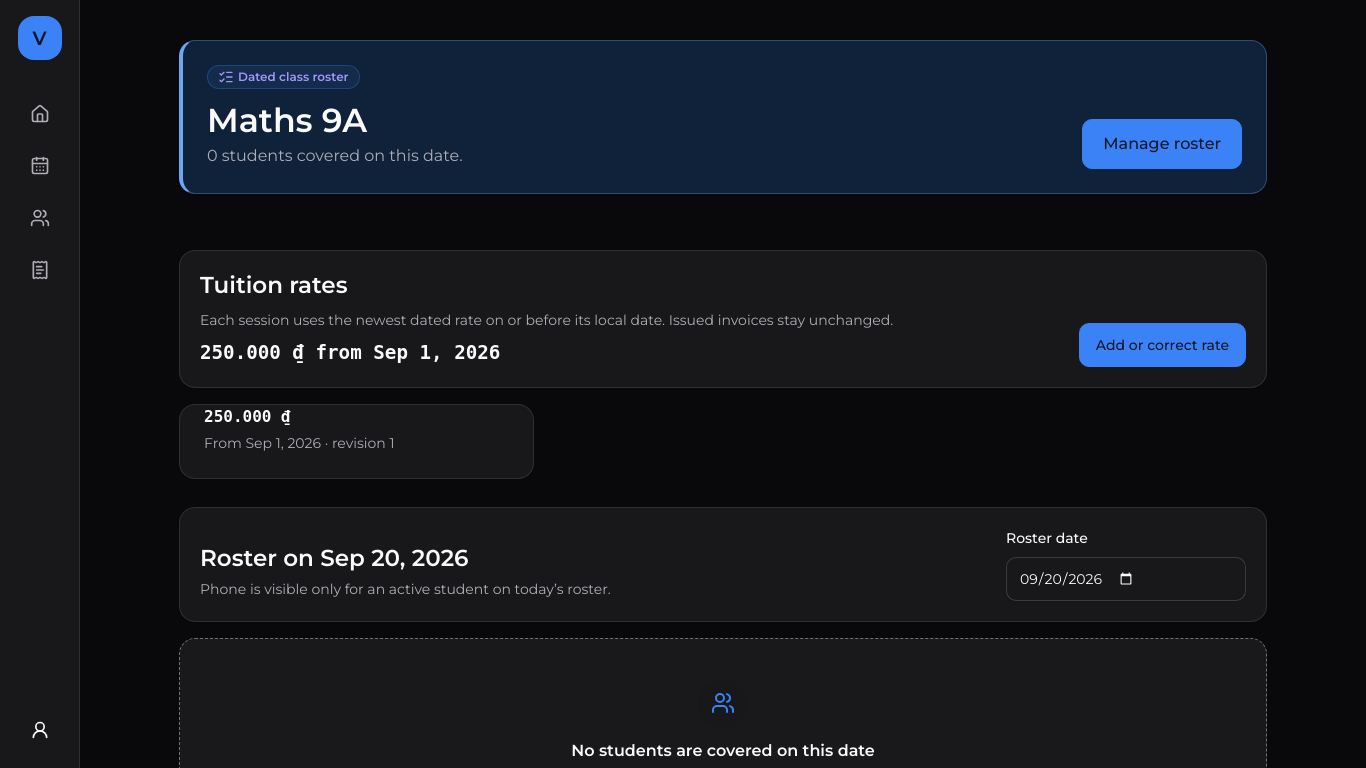
Test case: ClassDetailPage tuition rates › opens the dated rate editor with the server allowed range
Expected: the heading "Tuition rates" is shown, top-left (200, 272), bottom-right (348, 302)
Expected: the text "From Sep 1, 2026 · revision 1" is shown, top-left (204, 434), bottom-right (395, 452)
Click the button "Add or correct rate": [1162, 345] box top-left (1079, 323), bottom-right (1246, 367)
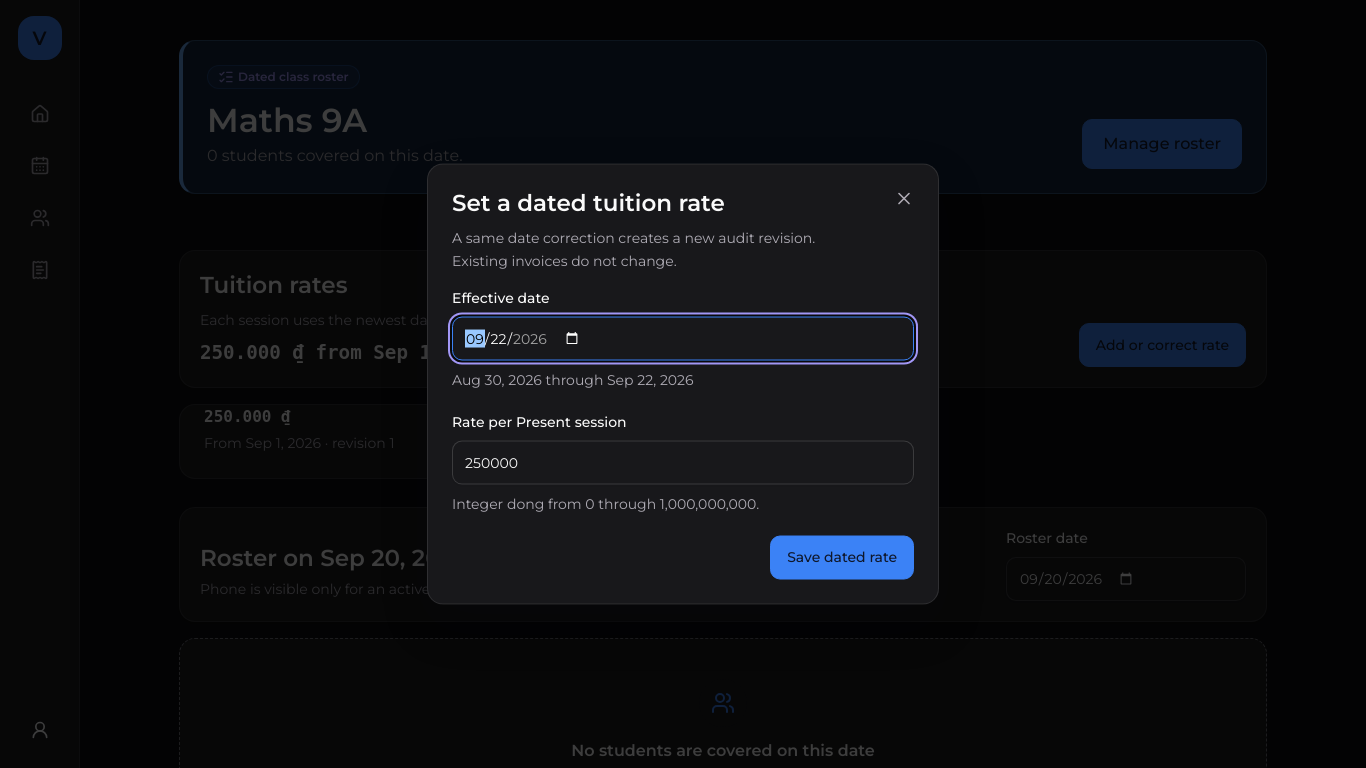
Now the dialog "Set a dated tuition rate" is shown, box top-left (427, 164), bottom-right (939, 604)
Now the date field labelled "Effective date" holds "2026-09-22", box top-left (452, 317), bottom-right (914, 361)
Now the number field labelled "Rate per Present session" holds "250000", box top-left (452, 441), bottom-right (914, 485)
